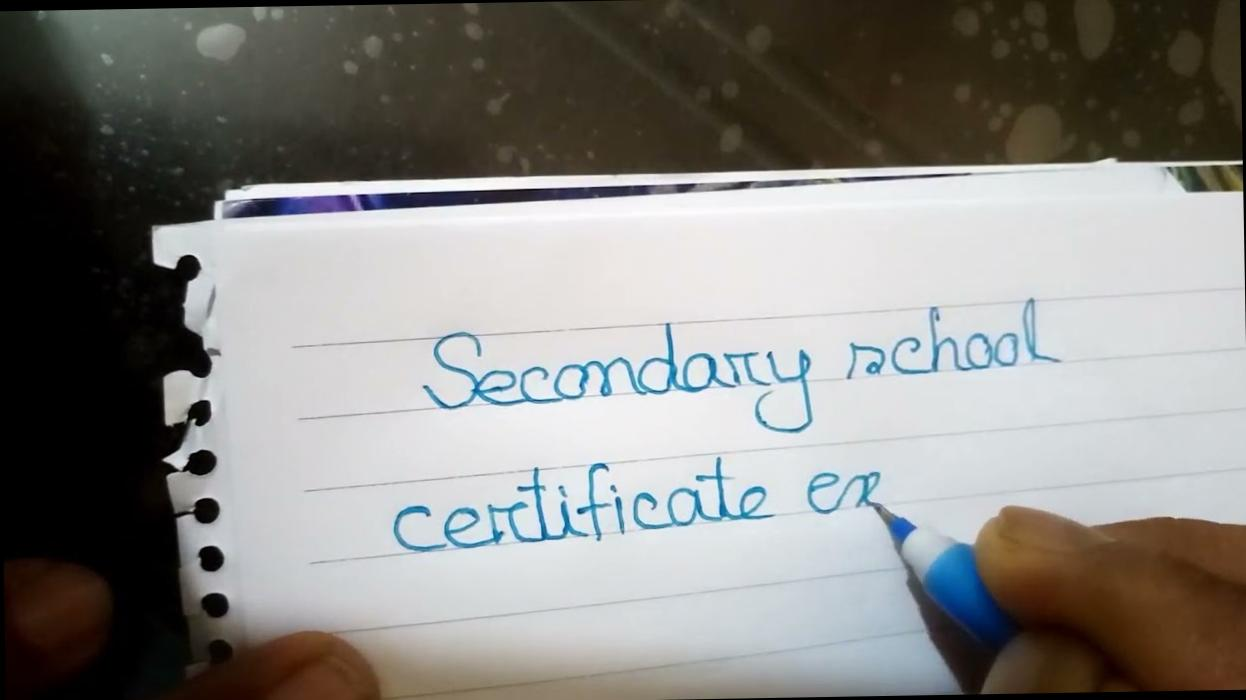text: (417, 294, 1068, 445), (388, 449, 888, 558)
